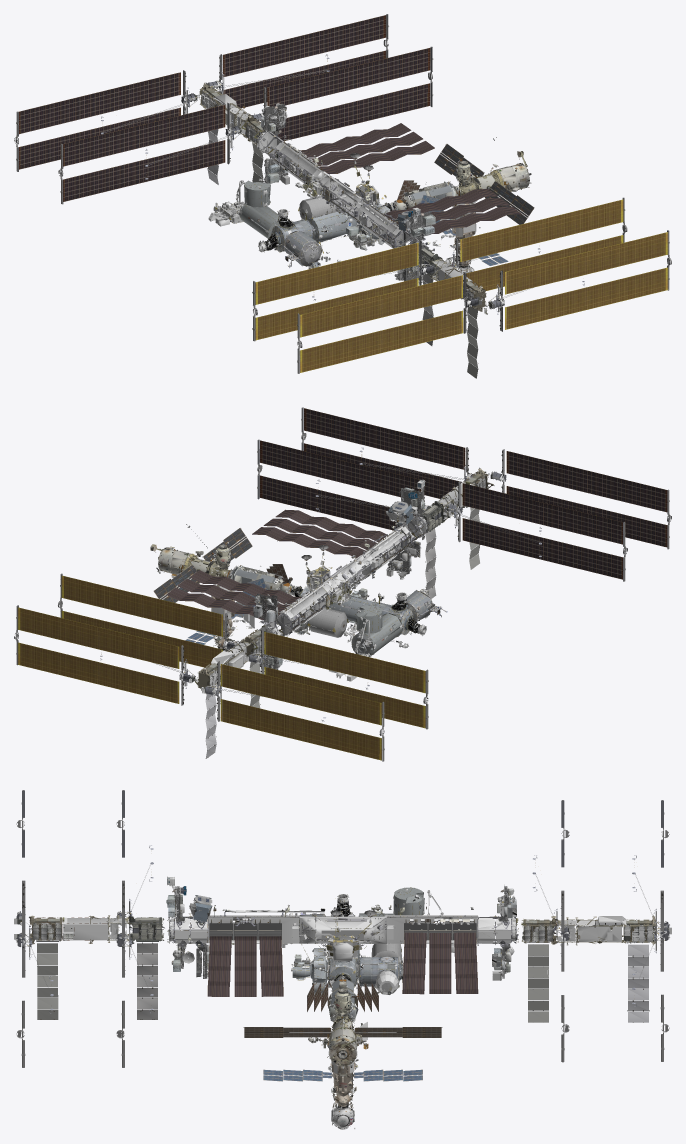
Rendered from iss-hd.glb.
The picture shows the model from 3 angles, top to bottom: view 1: azimuth 30°, elevation 25°; view 2: azimuth 150°, elevation 25°; view 3: azimuth 270°, elevation 25°; orthographic projection. The views are drawn at different scales.
Visible parts, largest first — view 1: S6_3B_Array, S6_1B_Array, P4_Array_4A, P4_Array_2A, S4_Array_1A, P6_2B_Array, P6_4B_Array, S4_Array_3A, P1_Radiator, S1_Radiator, Zvezda_SM, Truss_S6 (+13 smaller); view 2: P6_2B_Array, P6_4B_Array, S4_Array_1A, S4_Array_3A, P4_Array_4A, S6_3B_Array, P4_Array_2A, S6_1B_Array, S1_Radiator, P1_Radiator, Zvezda_SM, Truss_P6 (+14 smaller); view 3: S1_Radiator, P1_Radiator, Truss_S6, Truss_P6, Zvezda_SM, Truss_S4, Truss_P4, MLM, Truss_S0, Zarya_FGB, Truss_S1, Truss_P1 (+11 smaller).
Boxes of the visible parts, <box> form: S6_3B_Array: <box>297,272,481,373</box>; S6_1B_Array: <box>488,230,671,331</box>; P4_Array_4A: <box>58,102,241,204</box>; P4_Array_2A: <box>250,46,432,140</box>; S4_Array_1A: <box>253,239,437,341</box>; P6_2B_Array: <box>14,70,197,171</box>; P6_4B_Array: <box>204,14,388,108</box>; S4_Array_3A: <box>453,197,627,290</box>; P1_Radiator: <box>287,123,434,173</box>; S1_Radiator: <box>373,189,521,245</box>; Zvezda_SM: <box>434,144,534,224</box>; Truss_S6: <box>439,266,486,378</box>; P6_2B_Array: <box>202,661,384,761</box>; P6_4B_Array: <box>14,605,195,705</box>; S4_Array_1A: <box>446,481,627,581</box>; S4_Array_3A: <box>257,439,429,539</box>; P4_Array_4A: <box>246,629,428,729</box>; S6_3B_Array: <box>490,449,671,549</box>; P4_Array_2A: <box>58,573,238,667</box>; S6_1B_Array: <box>301,407,473,507</box>; S1_Radiator: <box>252,509,398,558</box>; P1_Radiator: <box>166,570,312,631</box>; Zvezda_SM: <box>153,528,252,602</box>; Truss_P6: <box>193,648,243,758</box>; S1_Radiator: <box>207,923,283,996</box>; P1_Radiator: <box>402,919,478,994</box>; Truss_S6: <box>30,917,108,1019</box>; Truss_P6: <box>577,916,655,1022</box>; Zvezda_SM: <box>243,1015,442,1066</box>; Truss_S4: <box>128,916,169,1019</box>; Truss_P4: <box>516,918,557,1022</box>; MLM: <box>263,1022,422,1107</box>; Truss_S0: <box>299,916,386,946</box>; Zarya_FGB: <box>307,978,378,1022</box>; Truss_S1: <box>208,912,299,943</box>; Truss_P1: <box>386,915,477,943</box>.
Size of the model in its own units: 7.46 by 3.11 by 10.08.
42 materials, 40 textured.
